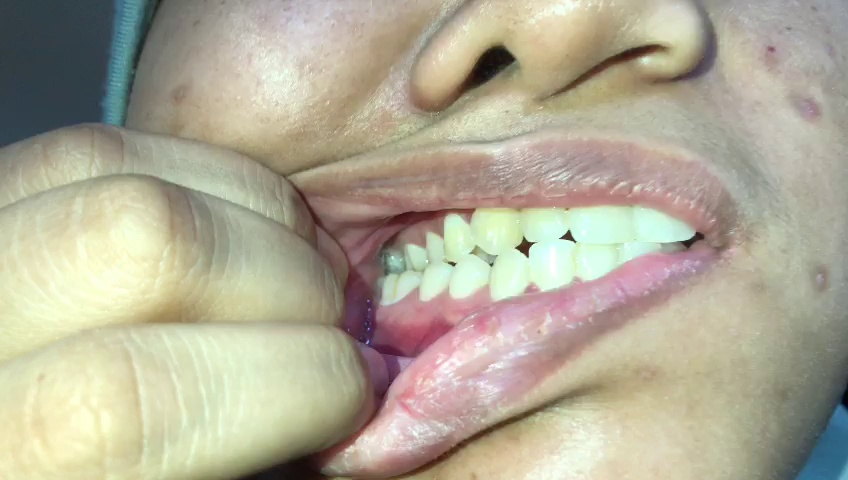1st Molar: (396, 268, 421, 307), (404, 245, 427, 270)
1st Premolar: (449, 259, 490, 304), (441, 214, 475, 265)
2nd Molar: (378, 270, 399, 310), (384, 246, 406, 271)
2nd Premolar: (419, 258, 450, 303), (424, 231, 446, 267)
Canine: (470, 202, 523, 257), (488, 248, 527, 304)
Lateral Incisor: (527, 239, 576, 297)
